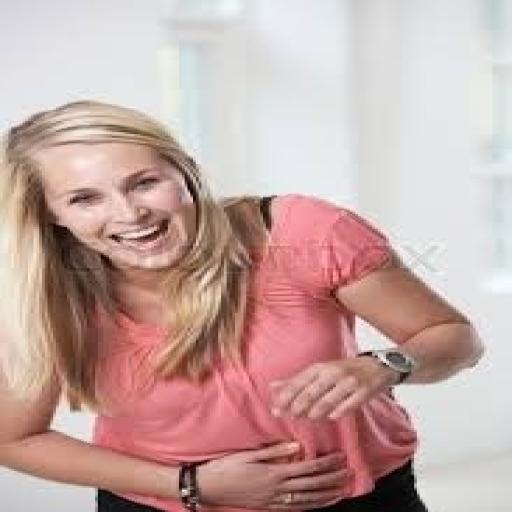laughing: (0, 95, 487, 510)
